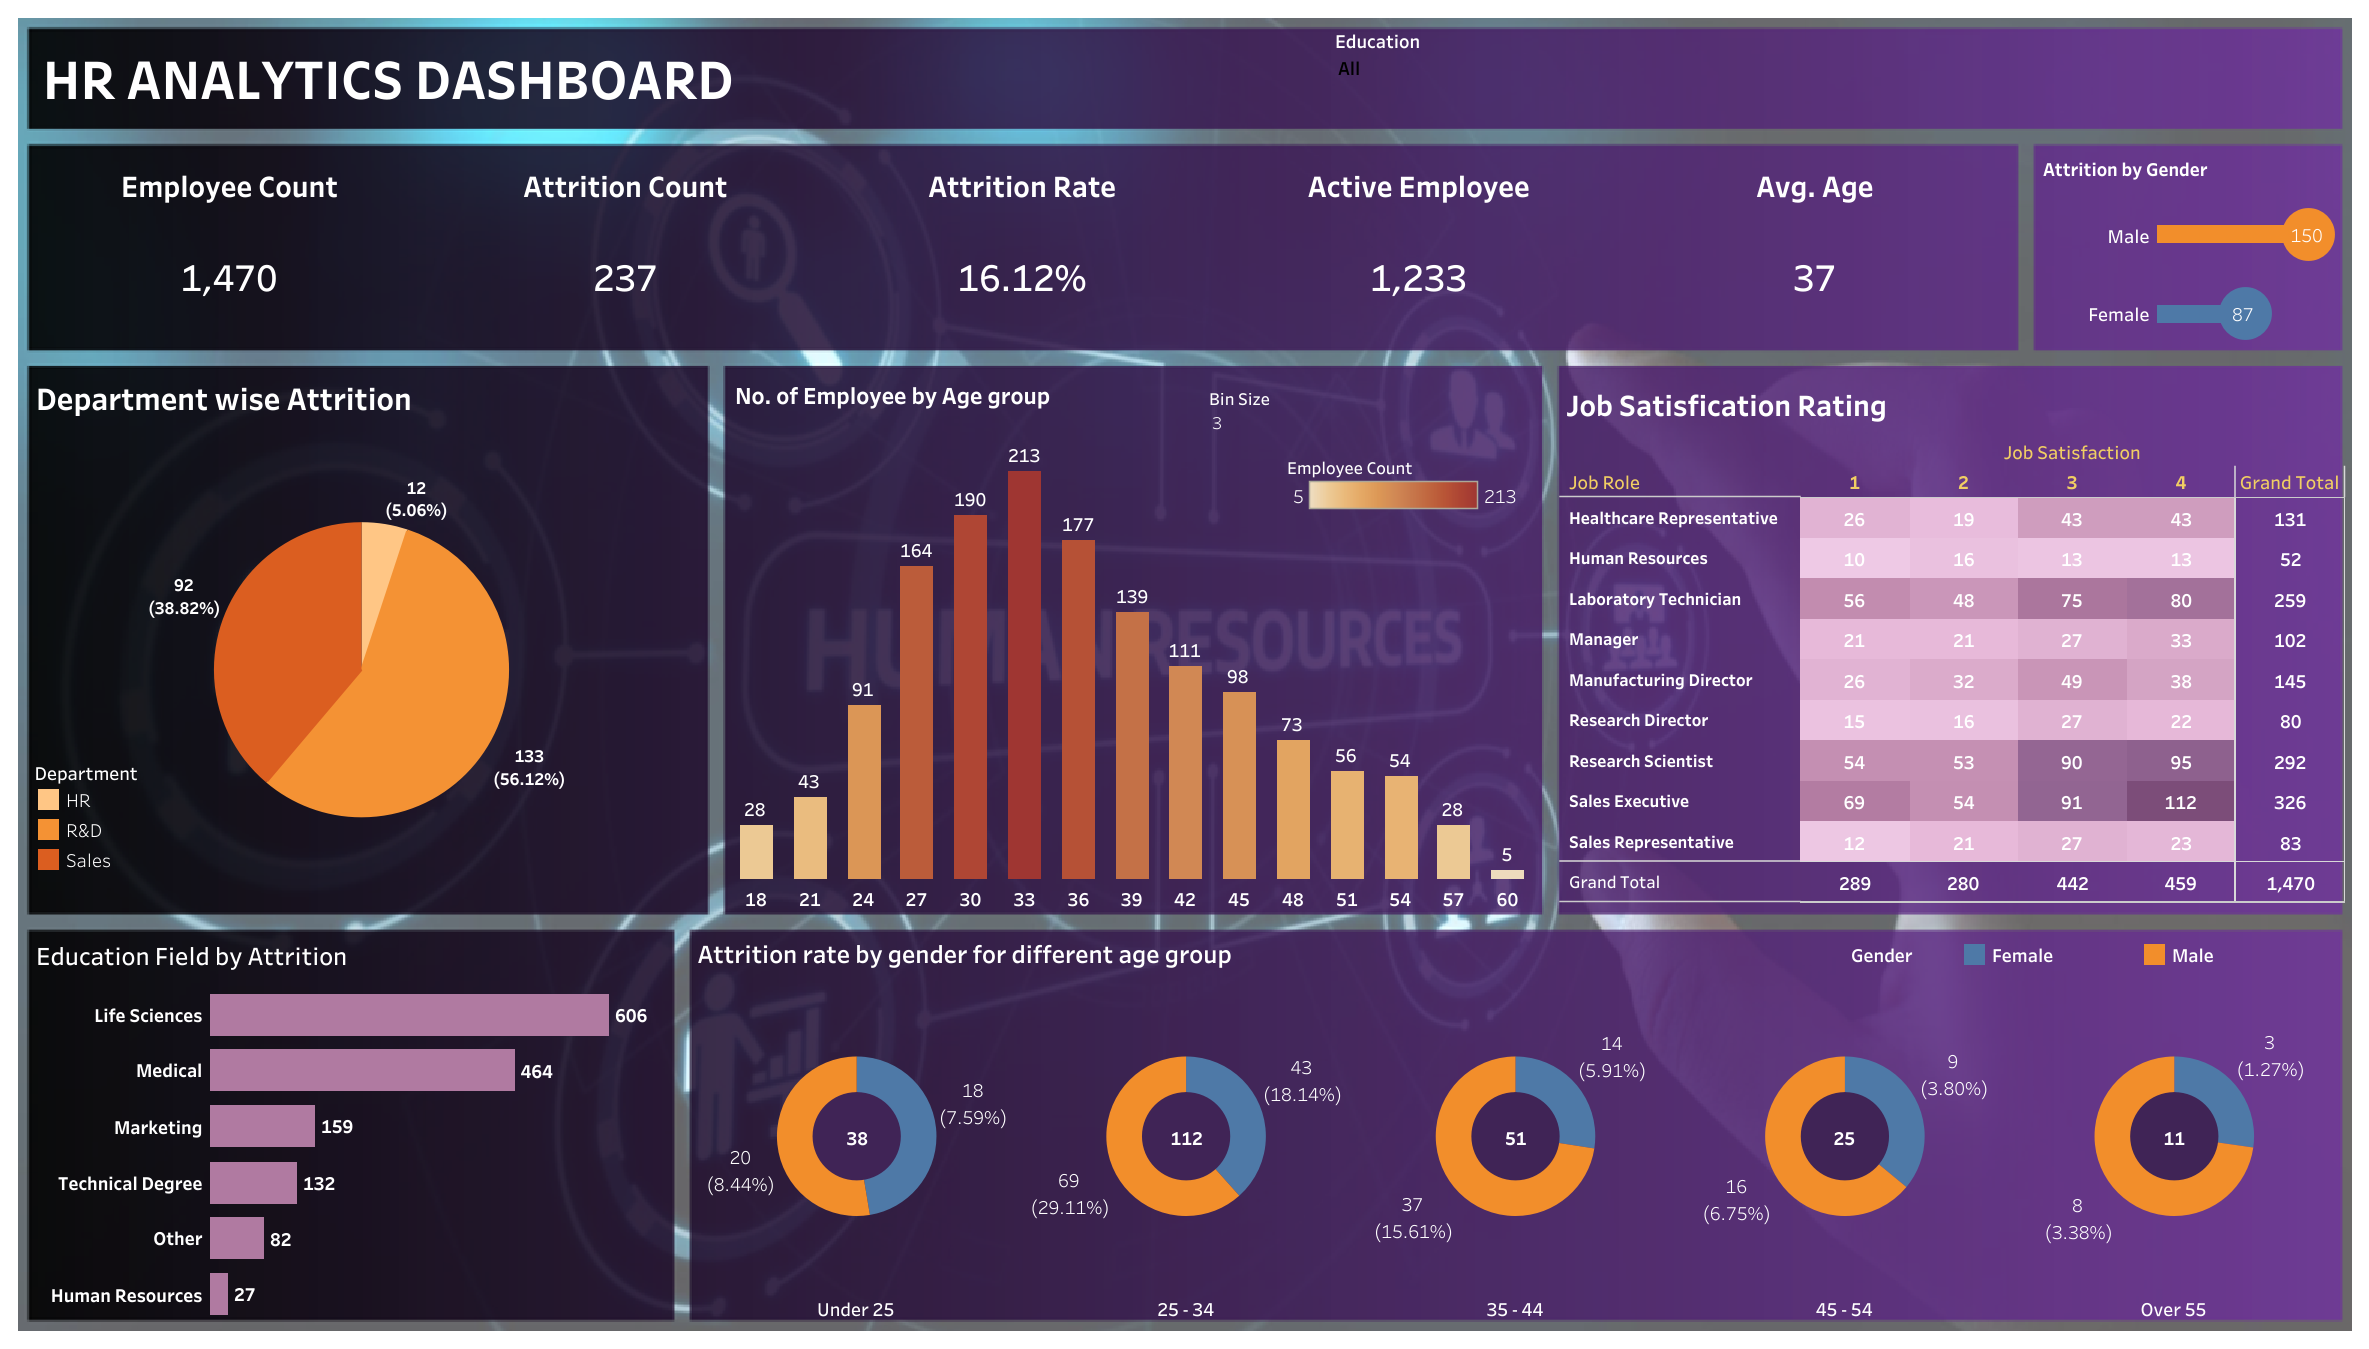

What the dashboard file says about the page in this screenshot:
{"tool":"tableau","page":{"name":"HR Analyst","canvas":[1580,900],"ordinal":0},"visuals":[{"type":"image","param":"Image/HR background.pptx.png","box":[8,8,1564,884]},{"type":"filter","title":"Sheet 3","param":"[federated.01bbu6c0tytx8e12ft68g0nsazu0].[none:Education:nk]","box":[890,17,315,67]},{"type":"text","box":[26,19,780,64]},{"type":"worksheet","title":"Sheet 1","mark":"Automatic","box":[21,96,1321,137]},{"type":"worksheet","title":"Sheet 2","mark":"Automatic","rows":["Gender"],"cols":["Calculation_1261693488033792","Calculation_1261693488033792"],"box":[1358,97,204,138]},{"type":"worksheet","title":"Sheet 3","mark":"Pie","box":[20,245,442,360]},{"type":"worksheet","title":"no.employ","mark":"Automatic","rows":["Employee Count"],"cols":["Age (bin)"],"box":[486,246,537,362]},{"type":"worksheet","title":"Job Satisfication Rating","mark":"Square","rows":["Job Role"],"cols":["Job Satisfaction"],"box":[1040,250,524,352]},{"type":"parameter","param":"[Parameters].[Parameter 1]","box":[806,257,219,43]},{"type":"legend","title":"no.employ","param":"[federated.01bbu6c0tytx8e12ft68g0nsazu0].[sum:Employee Count:qk]","box":[858,300,158,57]},{"type":"legend","title":"Sheet 3","param":"[federated.01bbu6c0tytx8e12ft68g0nsazu0].[none:Department:nk]","box":[22,504,140,101]},{"type":"worksheet","title":"Attrition rate by gender for different age group","mark":"Pie","rows":["Calculation_1261693599068167","Calculation_1261693599068167"],"cols":["CF_age band"],"box":[461,618,1098,263]},{"type":"worksheet","title":"Education Field by Attrition","mark":"Automatic","rows":["Education Field"],"cols":["Employee Count"],"box":[20,619,429,262]},{"type":"legend","title":"Attrition rate by gender for different age group","param":"[federated.01bbu6c0tytx8e12ft68g0nsazu0].[none:Gender:nk]","box":[1234,626,321,33]}]}

Visuals, with their boxes in screenshot pixels (x1, y1, x2, y2), scaled from the page's 1580x900 canvas onto the 2369x1349 screenshot:
image: (x1=12, y1=12, x2=2357, y2=1337)
"Sheet 3" filter: (x1=1334, y1=25, x2=1807, y2=126)
text: (x1=39, y1=28, x2=1208, y2=124)
"Sheet 1" worksheet: (x1=31, y1=144, x2=2012, y2=349)
"Sheet 2" worksheet: (x1=2036, y1=145, x2=2342, y2=352)
"Sheet 3" worksheet (Pie marks): (x1=30, y1=367, x2=693, y2=907)
"no.employ" worksheet: (x1=729, y1=369, x2=1534, y2=911)
"Job Satisfication Rating" worksheet (Square marks): (x1=1559, y1=375, x2=2345, y2=902)
parameter: (x1=1208, y1=385, x2=1537, y2=450)
"no.employ" legend: (x1=1286, y1=450, x2=1523, y2=535)
"Sheet 3" legend: (x1=33, y1=755, x2=243, y2=907)
"Attrition rate by gender for different age group" worksheet (Pie marks): (x1=691, y1=926, x2=2338, y2=1321)
"Education Field by Attrition" worksheet: (x1=30, y1=928, x2=673, y2=1321)
"Attrition rate by gender for different age group" legend: (x1=1850, y1=938, x2=2332, y2=988)
